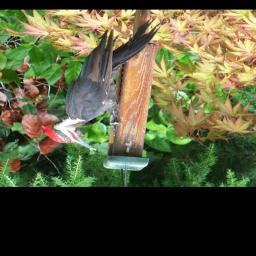Woodpecker: (41, 19, 161, 151)
